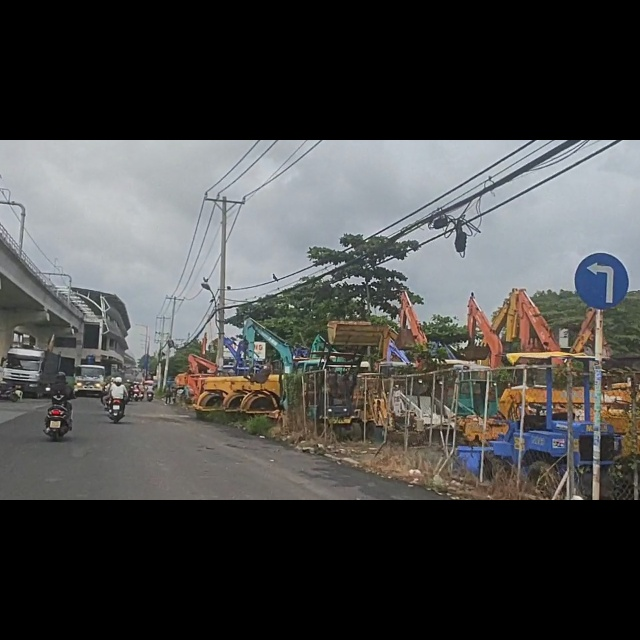bien_hieu_lenh: (574, 204, 629, 302)
